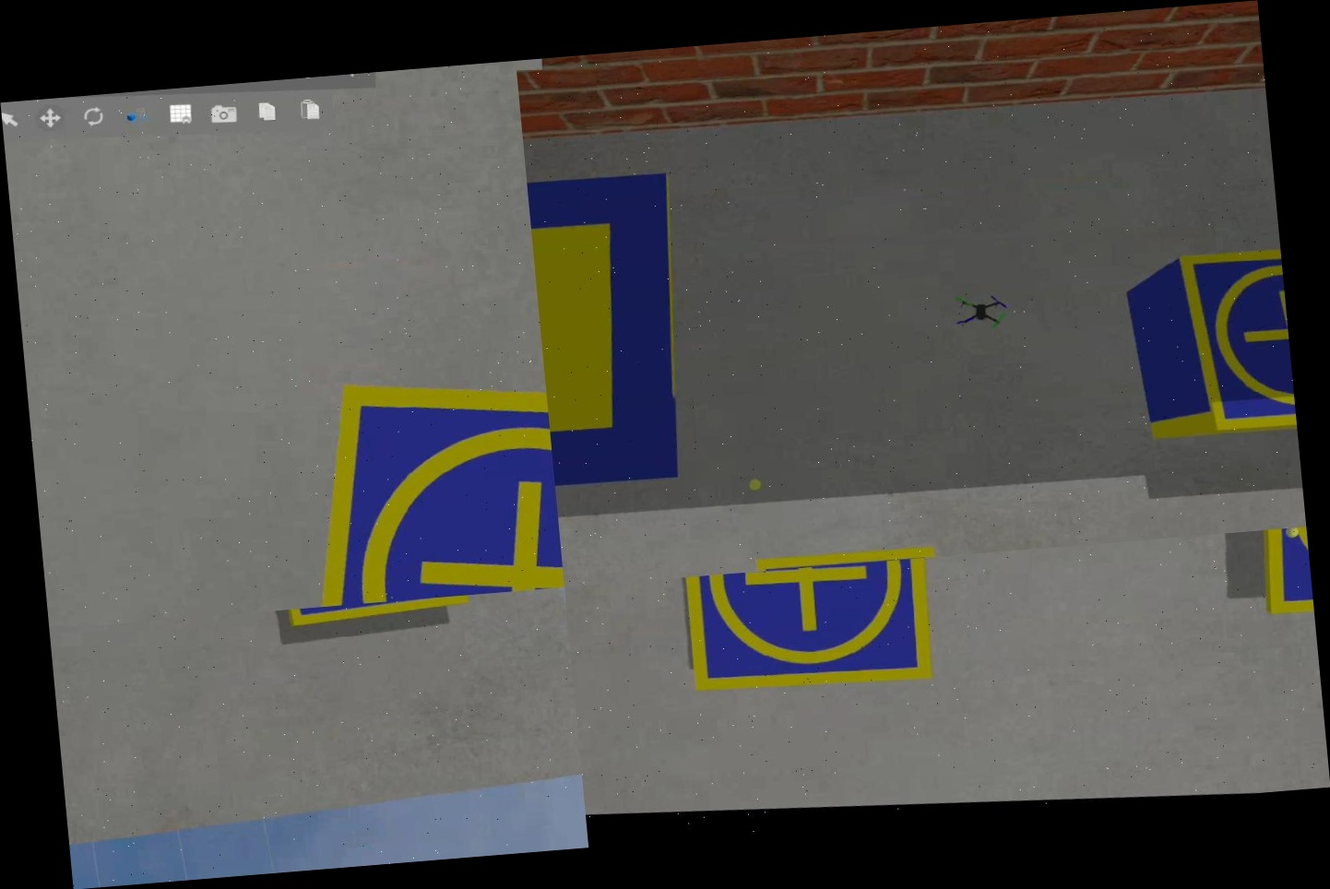large_base: (525, 149, 695, 502)
small_base: (270, 358, 564, 610), (669, 557, 945, 705), (1170, 245, 1297, 444)
